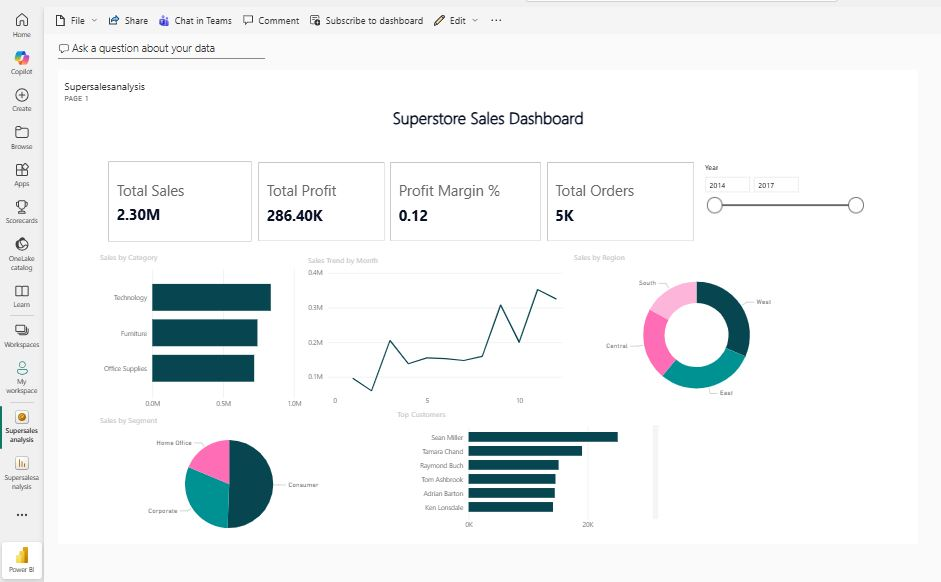

The page's visual inventory and layout, read from the dashboard file:
{"tool":"powerbi","page":{"name":"Page 1","canvas":[1280,720],"ordinal":0},"visuals":[{"type":"cardVisual","fields":{"Data":["Sample - Superstore.Total Sales"]},"box":[14.4,89.3,244.8,141.1],"z":0},{"type":"cardVisual","fields":{"Data":["Sample - Superstore.Total Profit"]},"box":[259.2,90.7,216,139.7],"z":1},{"type":"cardVisual","fields":{"Data":["Sample - Superstore.Profit Margin %"]},"box":[475.2,90.7,256.3,139.7],"z":2},{"type":"cardVisual","fields":{"Data":["Sample - Superstore.Total Orders"]},"box":[731.5,90.7,250.6,139.7],"z":3},{"type":"clusteredBarChart","title":"Sales by Category","fields":{"Category":["Sample - Superstore.Category"],"Y":["Sample - Superstore.Total Sales"]},"box":[0,241.9,339.8,266.4],"z":4},{"type":"lineChart","title":"Sales Trend by Month","fields":{"Y":["Sample - Superstore.Total Sales"],"Category":["Sample - Superstore.Month Number"]},"box":[339.8,246.2,426.2,257.8],"z":5},{"type":"donutChart","title":"Sales by Region","fields":{"Category":["Sample - Superstore.Region"],"Y":["Sample - Superstore.Total Sales"]},"box":[776.2,241.9,411.8,256.3],"z":6},{"type":"slicer","fields":{"Values":["Sample - Superstore.Year"]},"box":[982.1,90.7,280.8,151.2],"z":7},{"type":"pieChart","title":" Sales by Segment","fields":{"Category":["Sample - Superstore.Segment"],"Y":["Sample - Superstore.Total Sales"]},"box":[0,508.3,433.4,211.7],"z":8},{"type":"clusteredBarChart","title":"Top Customers","fields":{"Category":["Sample - Superstore.Customer Name"],"Y":["Sample - Superstore.Total Sales"]},"box":[486.7,498.2,436.3,208.8],"z":9},{"type":"textbox","box":[0,0,1280,110.9],"z":10}]}

Visuals, with their boxes on the page's 1280x720 design canvas (x1, y1, x2, y2). These are canvas units, not pixel positions in the 941x582 screenshot, which may show the page scaled, cropped or inside an application window:
cardVisual - Sample - Superstore.Total Sales: region(14, 89, 259, 230)
cardVisual - Sample - Superstore.Total Profit: region(259, 91, 475, 230)
cardVisual - Sample - Superstore.Profit Margin %: region(475, 91, 732, 230)
cardVisual - Sample - Superstore.Total Orders: region(732, 91, 982, 230)
"Sales by Category" clusteredBarChart: region(0, 242, 340, 508)
"Sales Trend by Month" lineChart: region(340, 246, 766, 504)
"Sales by Region" donutChart: region(776, 242, 1188, 498)
slicer - Sample - Superstore.Year: region(982, 91, 1263, 242)
" Sales by Segment" pieChart: region(0, 508, 433, 720)
"Top Customers" clusteredBarChart: region(487, 498, 923, 707)
textbox: region(0, 0, 1280, 111)
